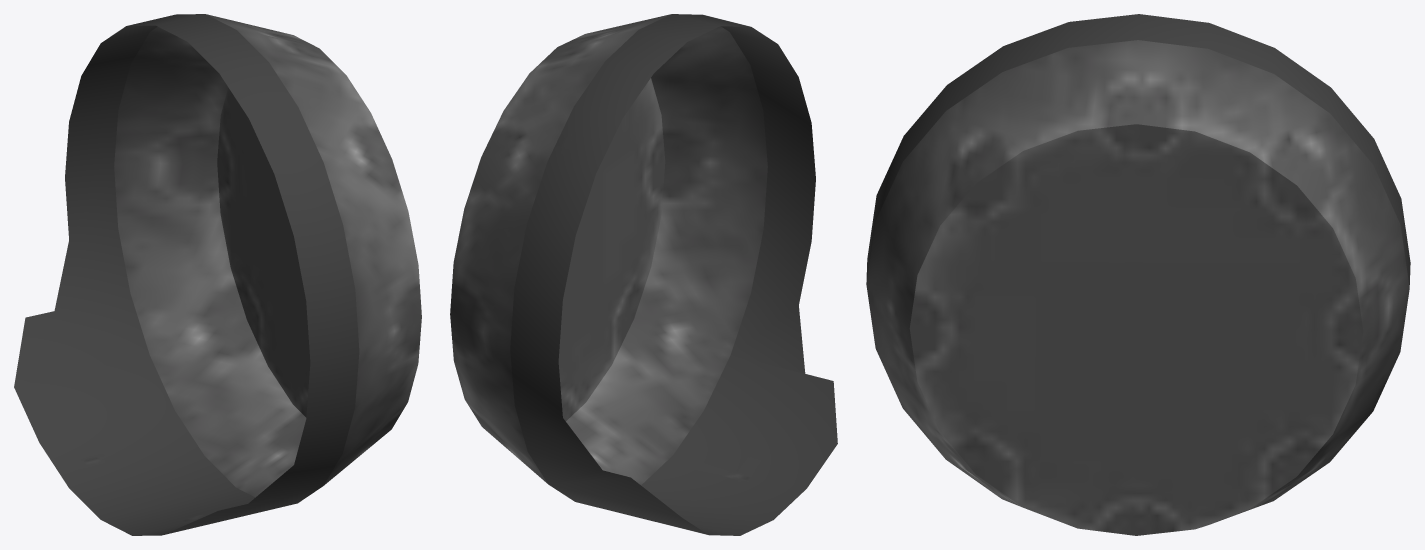
File: WallWindow_Cap_A.glb
3 views of the same model, side by side, from view 1: azimuth 30°, elevation 25°; view 2: azimuth 150°, elevation 25°; view 3: azimuth 270°, elevation 25° (orthographic). The views are drawn at different scales.
Parts seen in each view (by area): view 1: WallWindow_Cap_A; view 2: WallWindow_Cap_A; view 3: WallWindow_Cap_A.
Boxes of the visible parts, x1,y1,x2,y2 form: WallWindow_Cap_A: (14, 14, 421, 535); WallWindow_Cap_A: (450, 14, 837, 535); WallWindow_Cap_A: (866, 14, 1410, 535).
Size of the model in its own units: 0.2008 by 0.3958 by 0.3953.
Materials: 2 (2 with a texture image).
